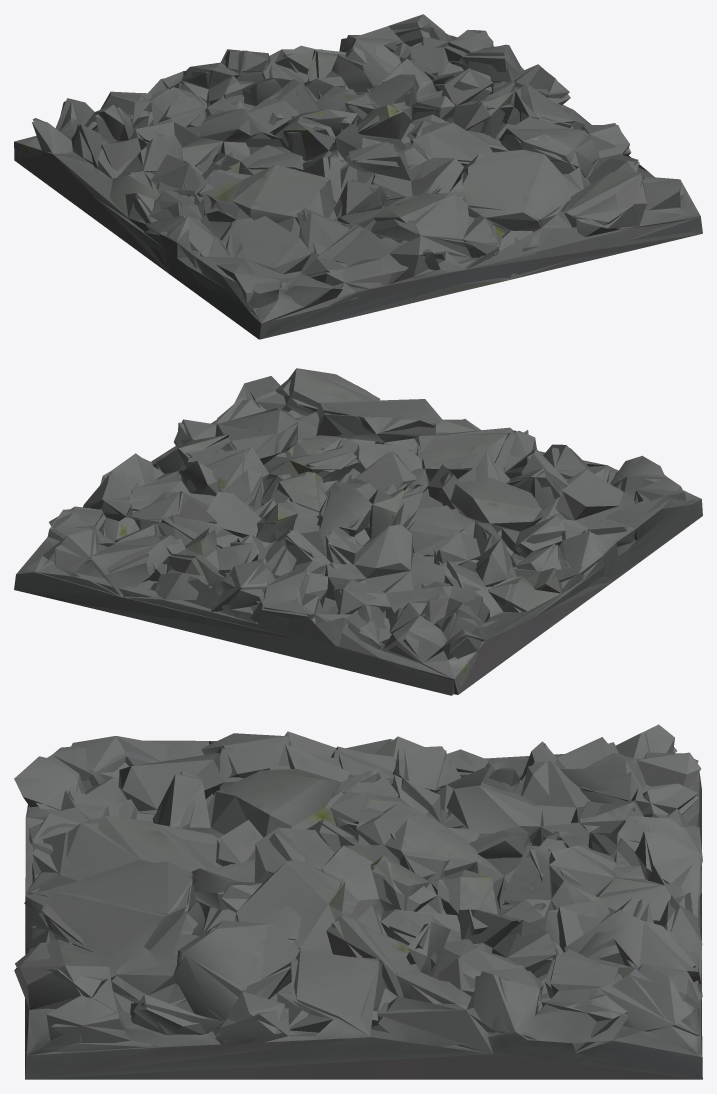
File: scene_river_stones.glb
3 renders of one model, top to bottom at view 1: azimuth 30°, elevation 25°; view 2: azimuth 150°, elevation 25°; view 3: azimuth 270°, elevation 25°, orthographic. The views are drawn at different scales.
Size of the model in its own units: 1.9 by 0.3217 by 1.9.
Materials: 1 (1 with a texture image).
